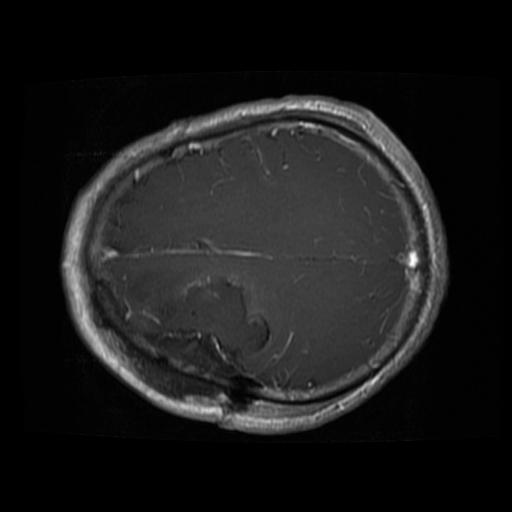glioma: (139, 280, 268, 380)
